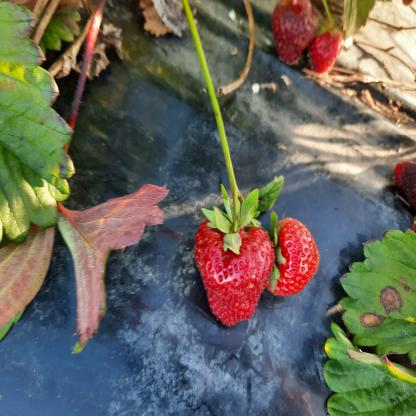ripe: (199, 215, 272, 325), (266, 224, 320, 289), (278, 0, 314, 60), (312, 29, 342, 73)
